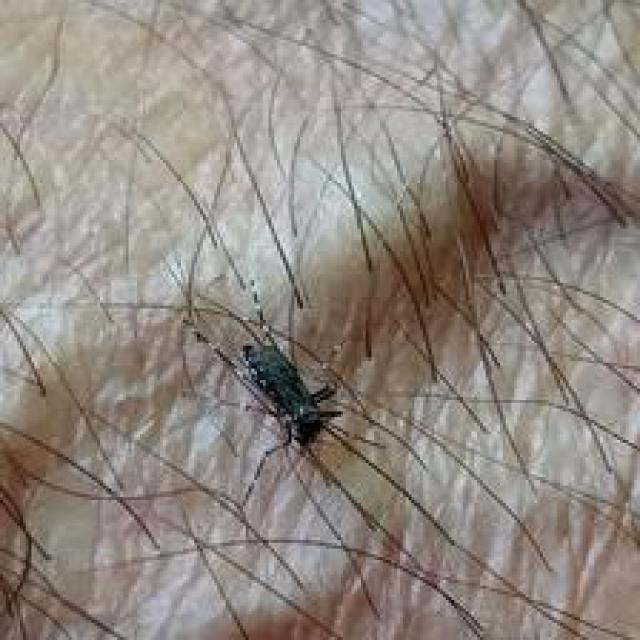Aedes albopictus: (237, 338, 343, 458)
